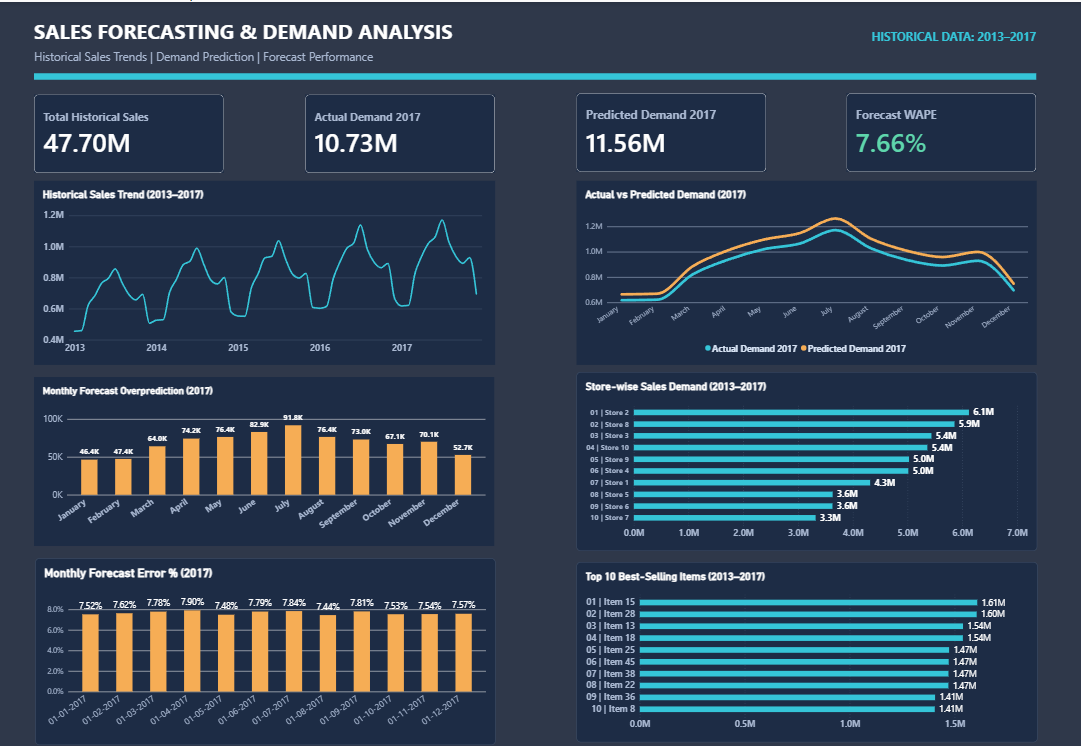

This screenshot's page, from the dashboard's own definition file:
{"tool":"powerbi","page":{"name":"Sales Forecasting Overview","canvas":[2000,1377],"ordinal":0},"visuals":[{"type":"textbox","box":[65,28,1200,55],"z":0},{"type":"textbox","box":[65,85,1150,35],"z":1000},{"type":"shape","box":[65,132,1850,12],"z":2000},{"type":"textbox","box":[1592.5,47.9,322.6,55.3],"z":3000},{"type":"cardVisual","fields":{"Data":["Calendar.Total Historical Sales"]},"box":[65,170,350,145],"z":4000},{"type":"cardVisual","fields":{"Data":["public historical_sales.Actual Demand 2017"]},"box":[565,171.4,350,145],"z":5000},{"type":"cardVisual","fields":{"Data":["public historical_sales.Predicted Demand 2017"]},"box":[1064.9,169.6,350,145],"z":6000},{"type":"cardVisual","fields":{"Data":["public historical_sales.Forecast WAPE"]},"box":[1564.9,169.6,350,145],"z":7000},{"type":"lineChart","title":"Historical Sales Trend (2013–2017)","fields":{"Category":["Calendar.Month Start Date"],"Y":["Calendar.Total Historical Sales"]},"box":[65.7,330.8,851.5,340.1],"z":8000},{"type":"lineChart","title":"Actual vs Predicted Demand (2017)","fields":{"Category":["Calendar.Month Name"],"Y":["public historical_sales.Actual Demand 2017","public historical_sales.Predicted Demand 2017"]},"box":[1065,330.8,849.2,340.1],"z":9000},{"type":"clusteredColumnChart","title":"Monthly Forecast Overprediction (2017)","fields":{"Category":["Calendar.Month Name"],"Y":["public sales_forecast_results.Monthly Overforecast Units"]},"box":[65.7,692,849.2,312],"z":9001},{"type":"clusteredBarChart","title":"Store-wise Sales Demand (2013–2017)","fields":{"Category":["Store Ranking.Store Display Label"],"Y":["Sum(Store Ranking.Total Store Sales)"]},"box":[1065.4,683.1,850.5,330.3],"z":9002},{"type":"clusteredBarChart","title":"Top 10 Best-Selling Items (2013–2017)","fields":{"Category":["Item Ranking.Item Display Label"],"Y":["Sum(Item Ranking.Total Item Sales)"]},"box":[1065,1034.5,851.5,333.1],"z":9005},{"type":"clusteredColumnChart","title":"Monthly Forecast Error % (2017)","fields":{"Category":["Calendar.Month Start Date"],"Y":["Calendar.Monthly Forecast Error %"]},"box":[68,1027.5,849.2,344.8],"z":9006}]}

Visuals, with their boxes in screenshot pixels (x1, y1, x2, y2), scaled from the page's 2000x1377 canvas onto the 1081x746 screenshot:
textbox: crop(35, 15, 684, 45)
textbox: crop(35, 46, 657, 65)
shape: crop(35, 72, 1035, 78)
textbox: crop(861, 26, 1035, 56)
cardVisual - Calendar.Total Historical Sales: crop(35, 92, 224, 171)
cardVisual - public historical_sales.Actual Demand 2017: crop(305, 93, 495, 171)
cardVisual - public historical_sales.Predicted Demand 2017: crop(576, 92, 765, 170)
cardVisual - public historical_sales.Forecast WAPE: crop(846, 92, 1035, 170)
"Historical Sales Trend (2013–2017)" lineChart: crop(36, 179, 496, 363)
"Actual vs Predicted Demand (2017)" lineChart: crop(576, 179, 1035, 363)
"Monthly Forecast Overprediction (2017)" clusteredColumnChart: crop(36, 375, 495, 544)
"Store-wise Sales Demand (2013–2017)" clusteredBarChart: crop(576, 370, 1036, 549)
"Top 10 Best-Selling Items (2013–2017)" clusteredBarChart: crop(576, 560, 1036, 741)
"Monthly Forecast Error % (2017)" clusteredColumnChart: crop(37, 557, 496, 743)
